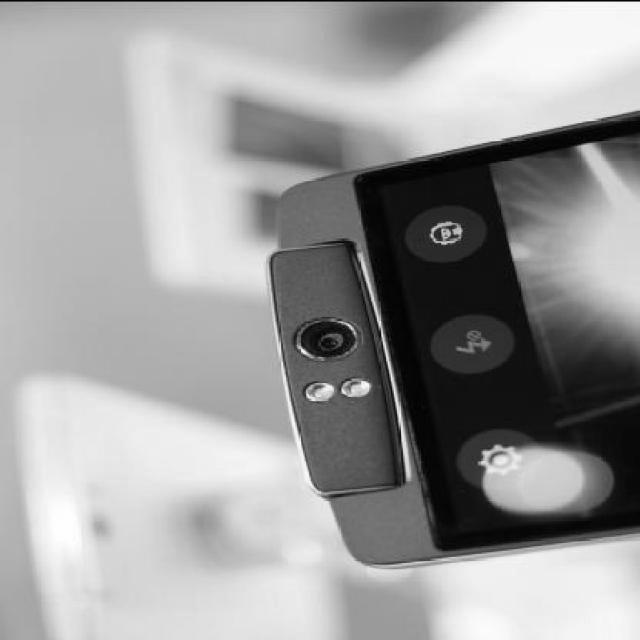fake: (269, 108, 640, 584)
